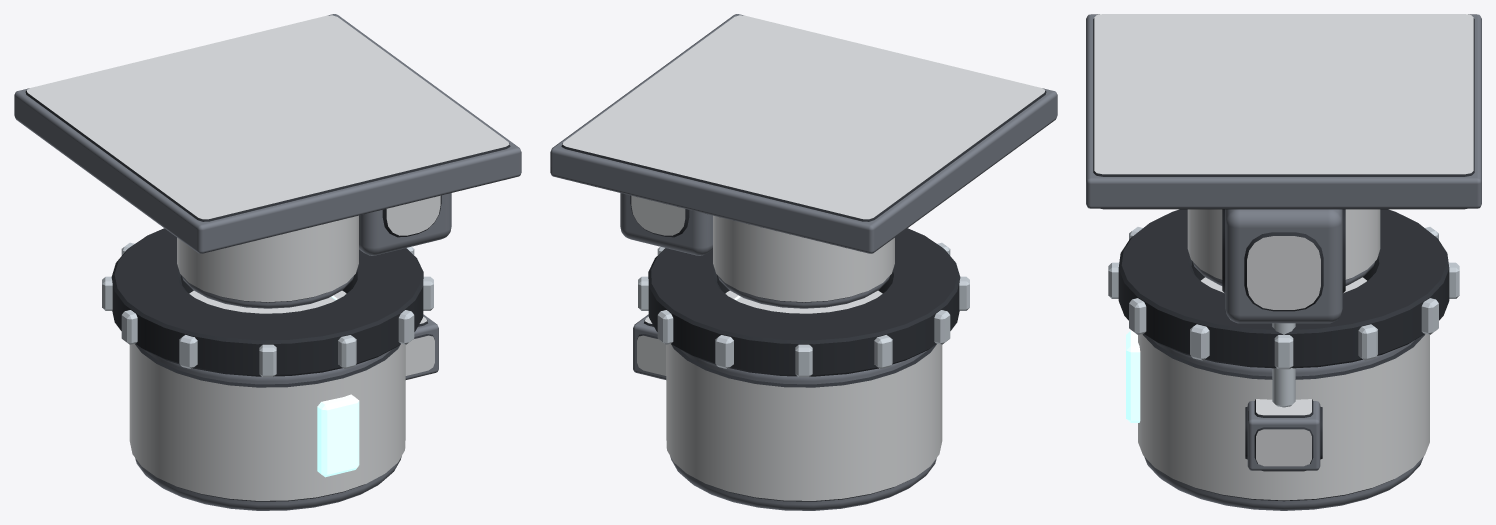
The model's file is R4X_IndependentSteering.fbx.
3 views of the same model, side by side, from view 1: azimuth 30°, elevation 25°; view 2: azimuth 150°, elevation 25°; view 3: azimuth 270°, elevation 25° (orthographic). The views are drawn at different scales.
Visible parts, largest first — view 1: R4X_IndependentSteering_Body, R4X_IndependentSteering_Turntable; view 2: R4X_IndependentSteering_Body, R4X_IndependentSteering_Turntable; view 3: R4X_IndependentSteering_Body, R4X_IndependentSteering_Turntable.
Part boxes in pixels (<box>): R4X_IndependentSteering_Body: <box>14,14,521,377</box>; R4X_IndependentSteering_Turntable: <box>129,290,438,510</box>; R4X_IndependentSteering_Body: <box>550,14,1057,377</box>; R4X_IndependentSteering_Turntable: <box>633,290,942,510</box>; R4X_IndependentSteering_Body: <box>1086,14,1481,407</box>; R4X_IndependentSteering_Turntable: <box>1126,277,1429,510</box>.
Size of the model in its own units: 0.517 by 0.52 by 0.514.
